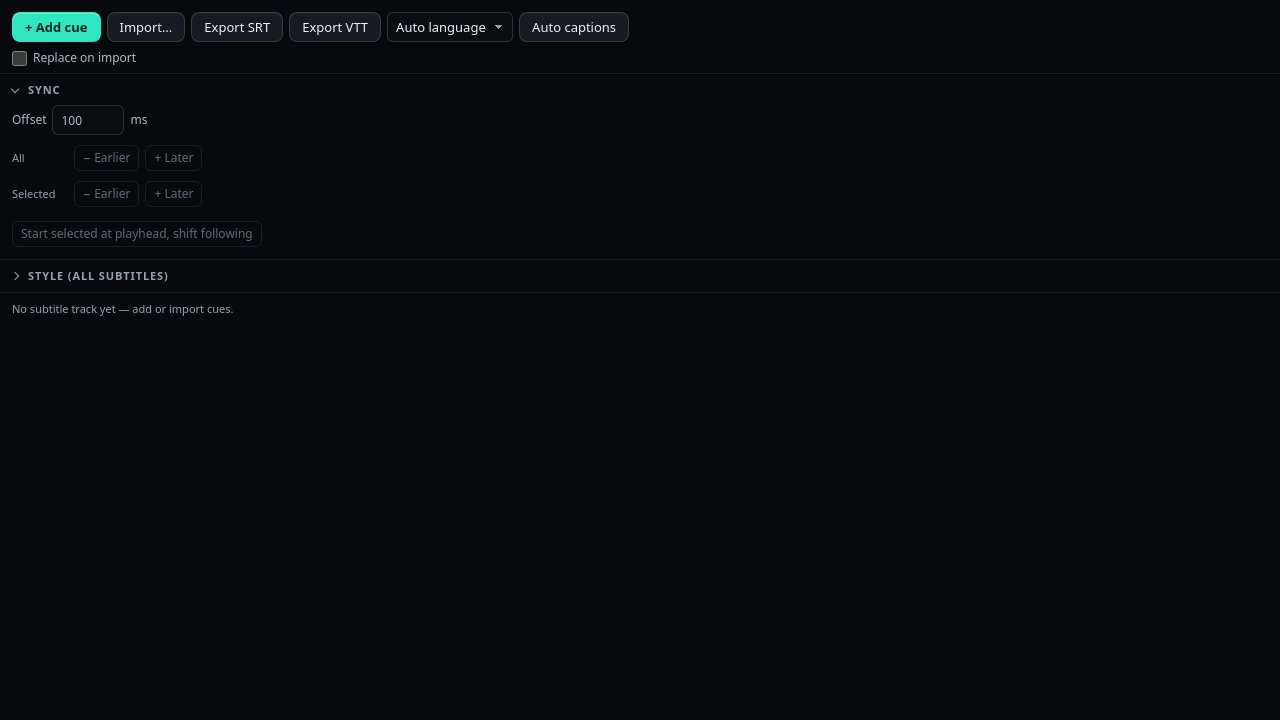
Scenario: SubtitlesPanel › Auto captions is disabled without a provider and runs one when registered
This screenshot has width=1280, height=720.
Later steps or results of the test are not shown.
Click the button "Auto captions" at (574, 27), box [519,12,629,42]
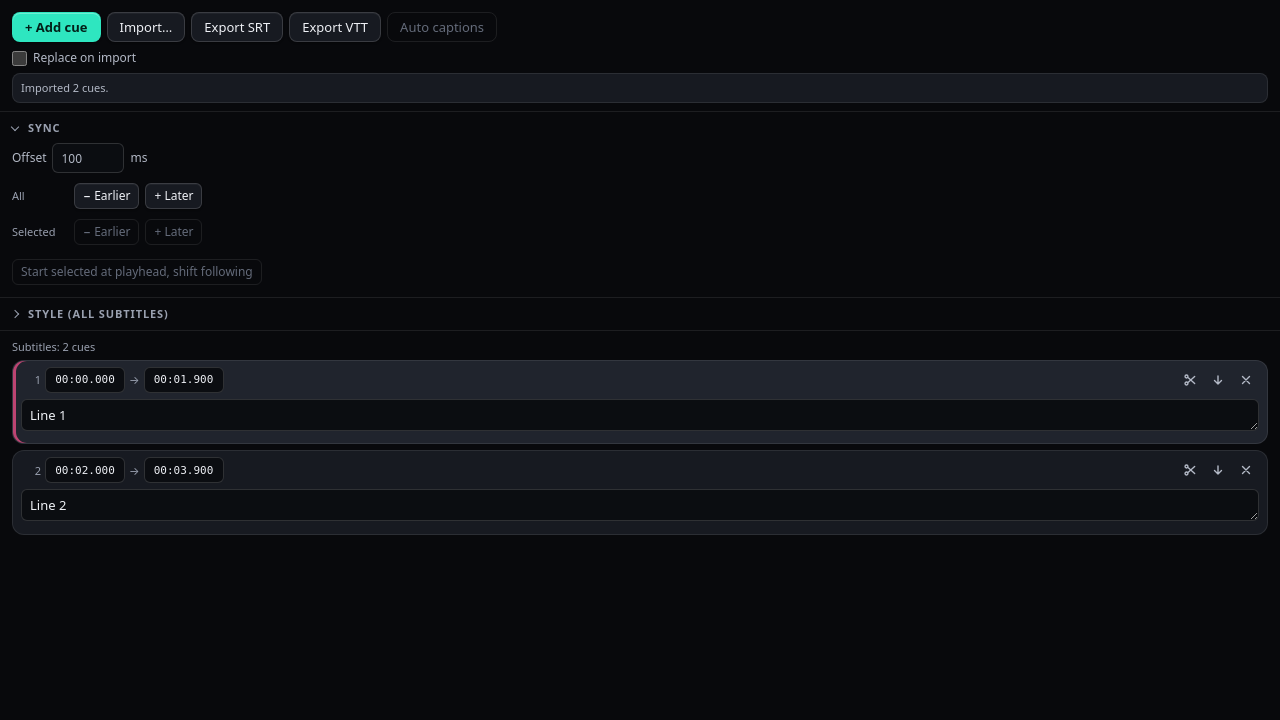
expect the message reads "Imported 2 cues.": met, box [21,80,108,95]
expect the number of list items with test id "cue-row" is 2: met, box [12,360,1268,444]; [12,450,1268,535]
